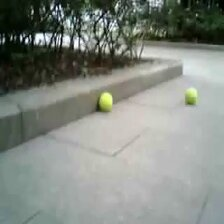tennis: (98, 92, 112, 108), (185, 88, 198, 103)
